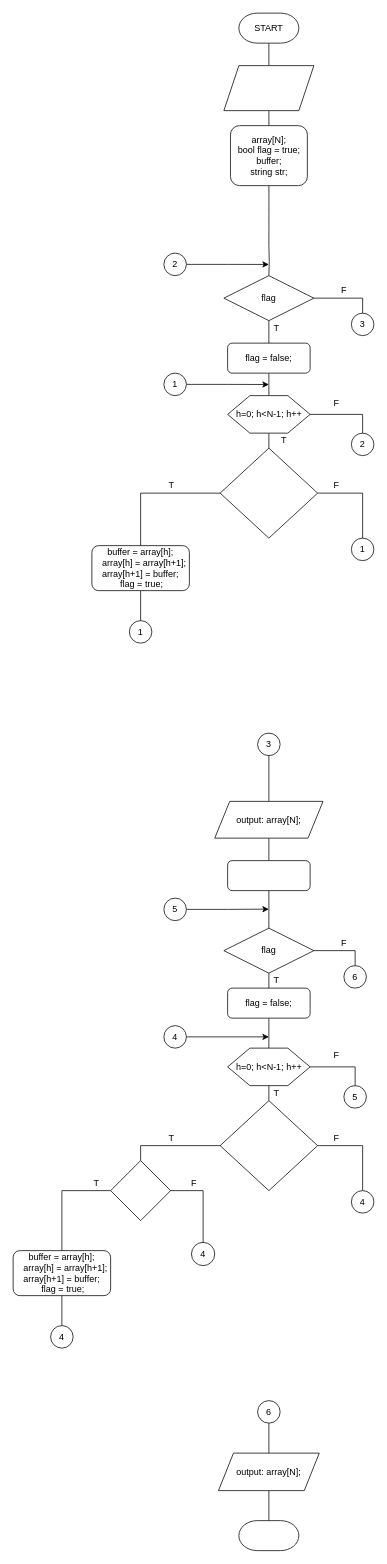
This 387x1564 diagram has some shape labels left out. Each missing label, with the centre of its shape:
(str+array[h]).length < (str+array[h+1]).length: [268,492]
(str+array[h]).length = (str+array[h+1]).length: [268,1145]
array[h] < array[h+1]: [140,1190]
END: [268,1535]
flag = true;: [268,875]
N є N: [268,88]
